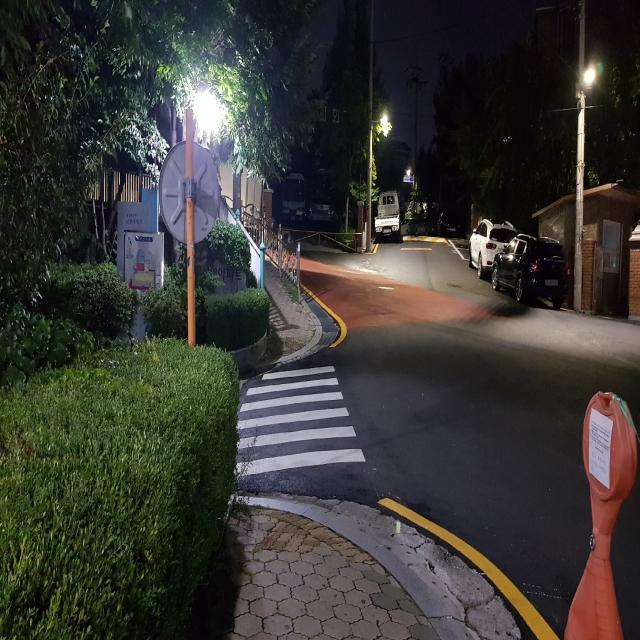횡단보도: (234, 366, 366, 476)
